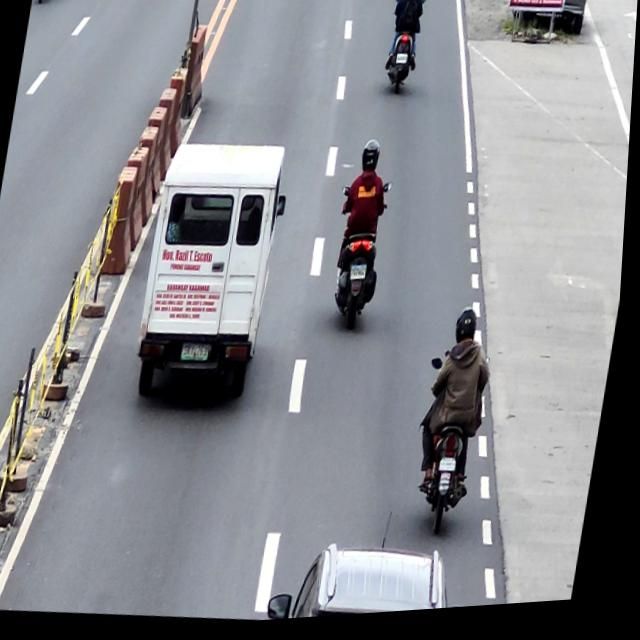Car: (132, 135, 297, 410), (271, 534, 489, 624)
License-Plate: (184, 343, 215, 366), (352, 268, 371, 286), (444, 462, 463, 480), (396, 58, 409, 71)
Motorcycle: (410, 350, 497, 542), (325, 183, 396, 335), (381, 0, 427, 102)
